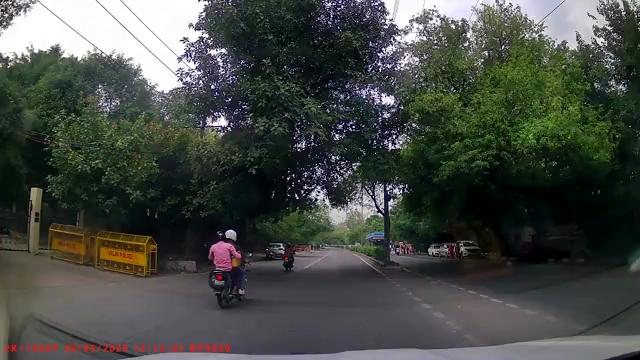motorcycle_with_helmet: (281, 240, 296, 273)
passenger_with_helmet: (207, 228, 248, 309)
